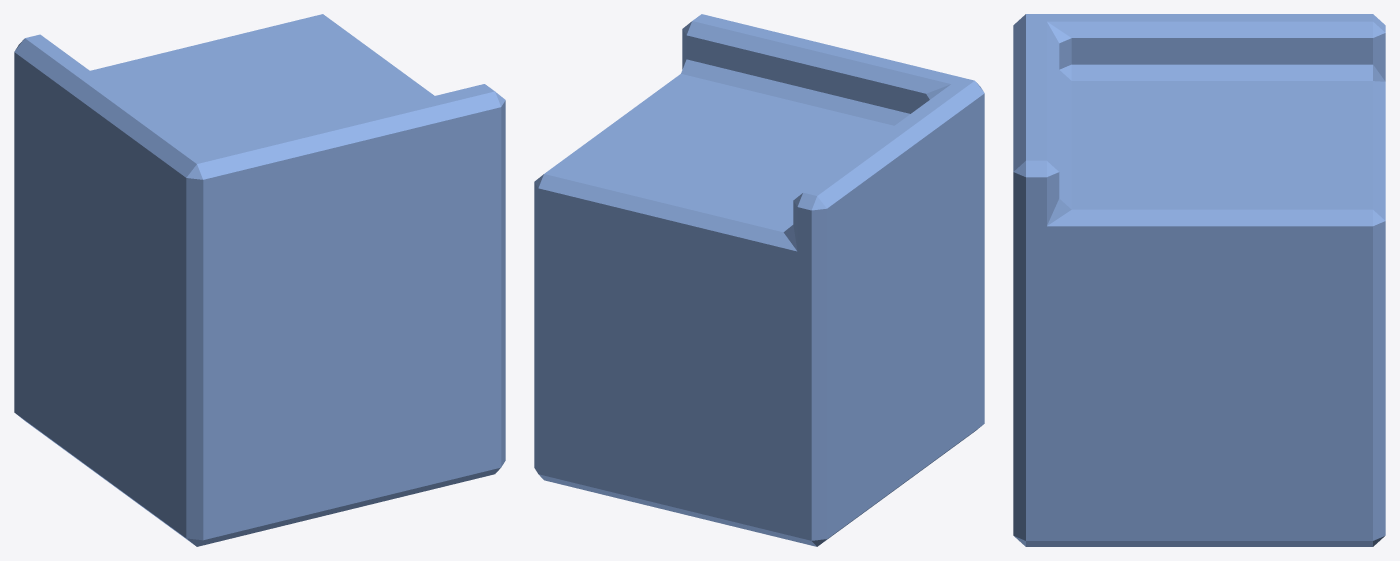
The picture shows the model from 3 angles, left to right: view 1: azimuth 30°, elevation 25°; view 2: azimuth 150°, elevation 25°; view 3: azimuth 270°, elevation 25°; orthographic projection. The views are drawn at different scales.
Parts seen in each view (by area): view 1: Cube.021; view 2: Cube.021; view 3: Cube.021.
Boxes of the visible parts, left/top/right/bottom form: Cube.021: left=14, top=14, right=505, bottom=546; Cube.021: left=534, top=14, right=984, bottom=546; Cube.021: left=1013, top=14, right=1385, bottom=546.
Bounding box in the file's own units: 200 × 229 × 200.
